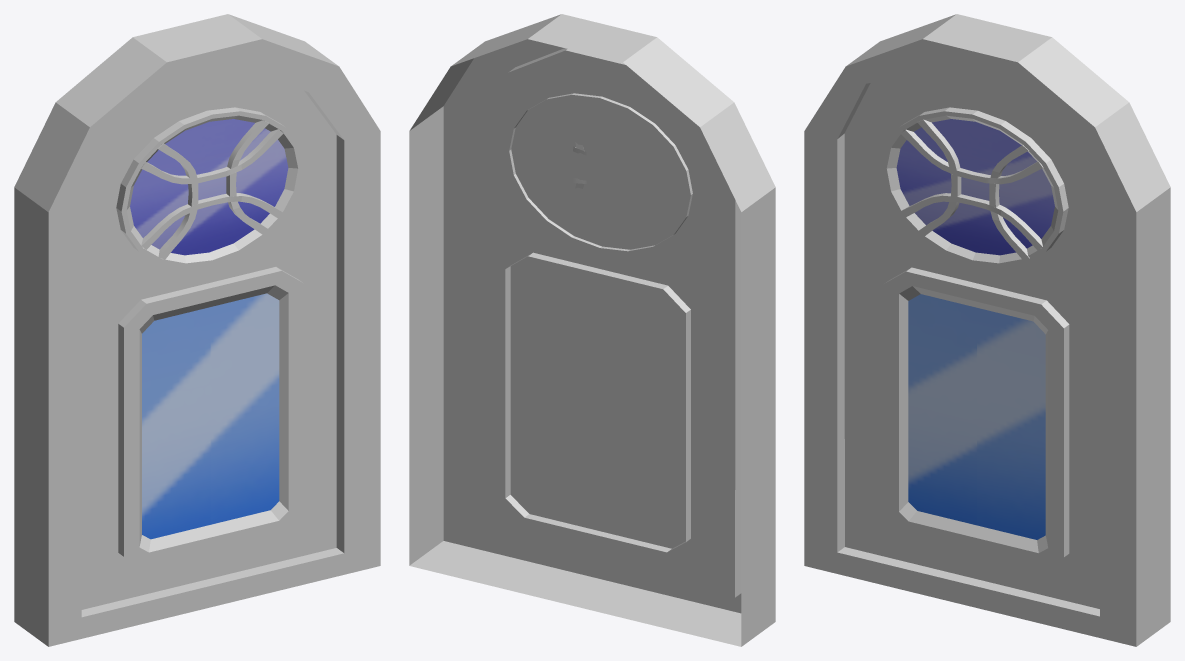
Rendered from Door_02.fbx.
The picture shows the model from 3 angles, left to right: view 1: azimuth 30°, elevation 25°; view 2: azimuth 150°, elevation 25°; view 3: azimuth 330°, elevation 25°; orthographic projection.
Parts seen in each view (by area): view 1: polySurface173, polySurface174, polySurface172, polySurface175; view 2: polySurface173, polySurface174, polySurface172; view 3: polySurface173, polySurface174, polySurface172, polySurface175.
Boxes of the visible parts, x1,y1,x2,y2 form: polySurface173: (14,14,380,646); polySurface174: (118,267,304,566); polySurface172: (116,107,303,267); polySurface175: (141,120,283,259); polySurface173: (409,14,775,646); polySurface174: (505,252,690,552); polySurface172: (509,93,692,251); polySurface173: (804,14,1170,646); polySurface174: (883,267,1069,567); polySurface172: (881,107,1068,267); polySurface175: (901,119,1043,260).
Size of the model in its own units: 155 by 248 by 27.74.
